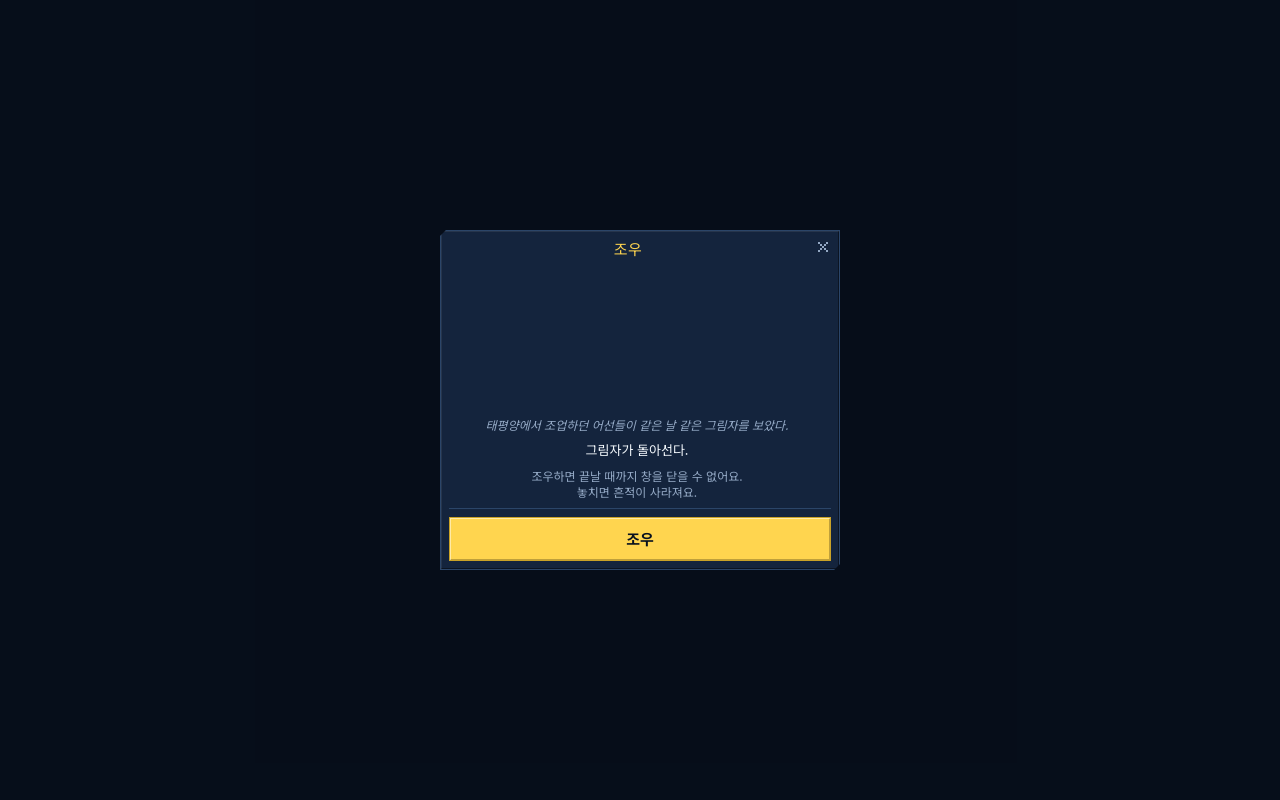
EncounterModal › 스페이스바도 챔질이 된다
Click the button "조우" at (640, 539), box [449,517,831,561]
Wait 350 ms
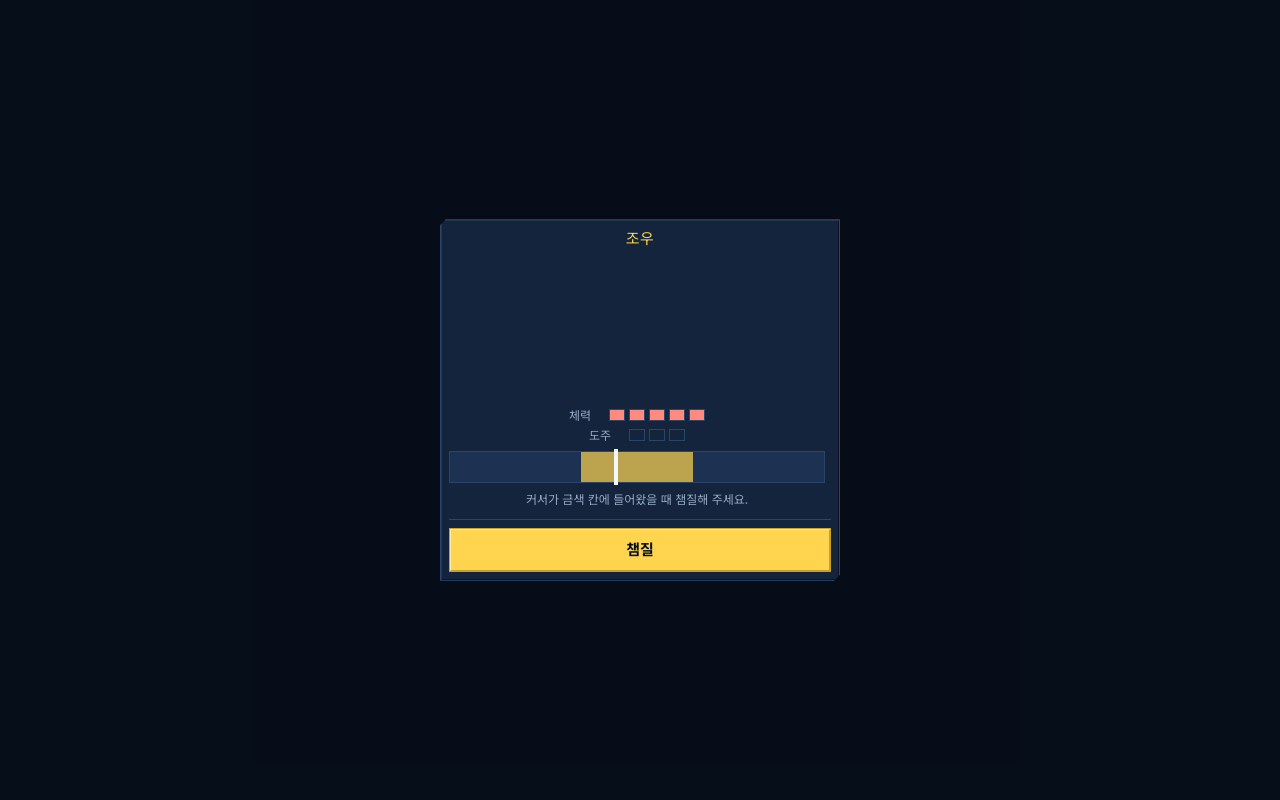
Press Space
Wait 850 ms
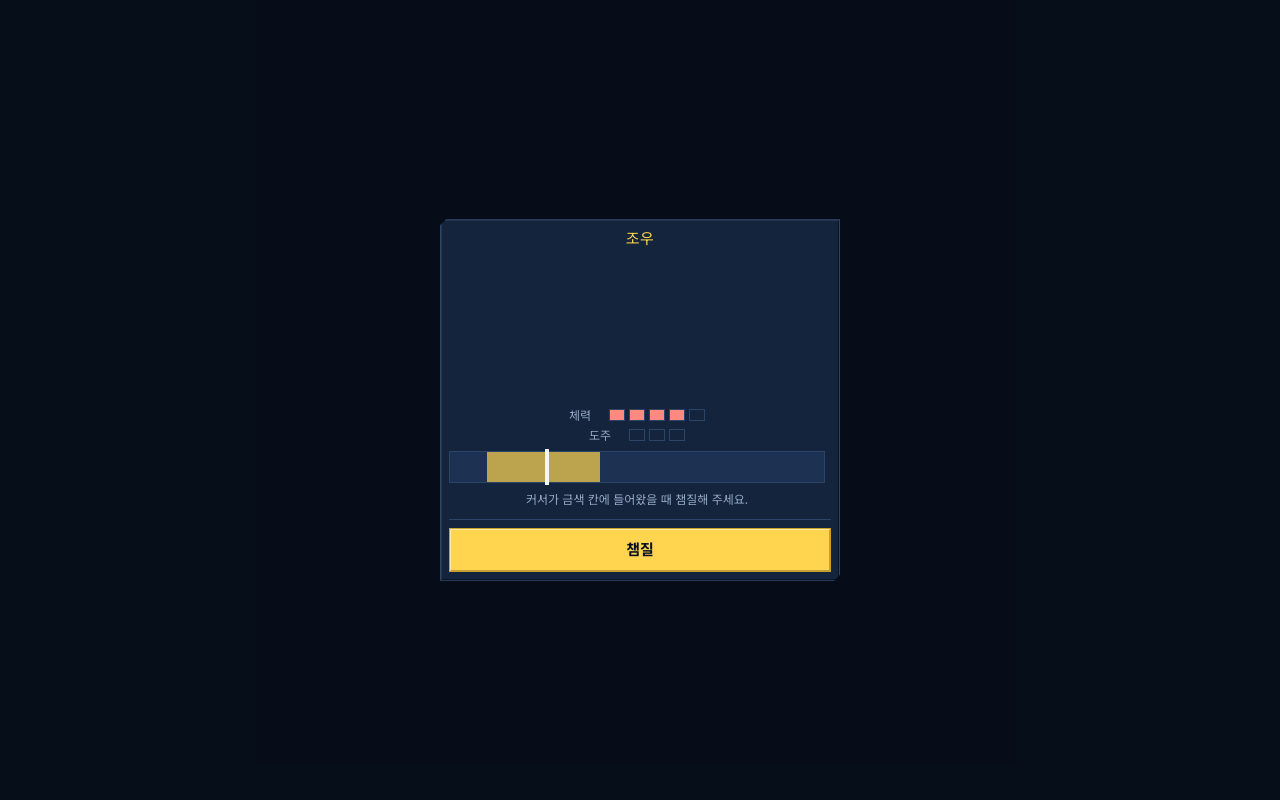
Press Space
Wait 450 ms
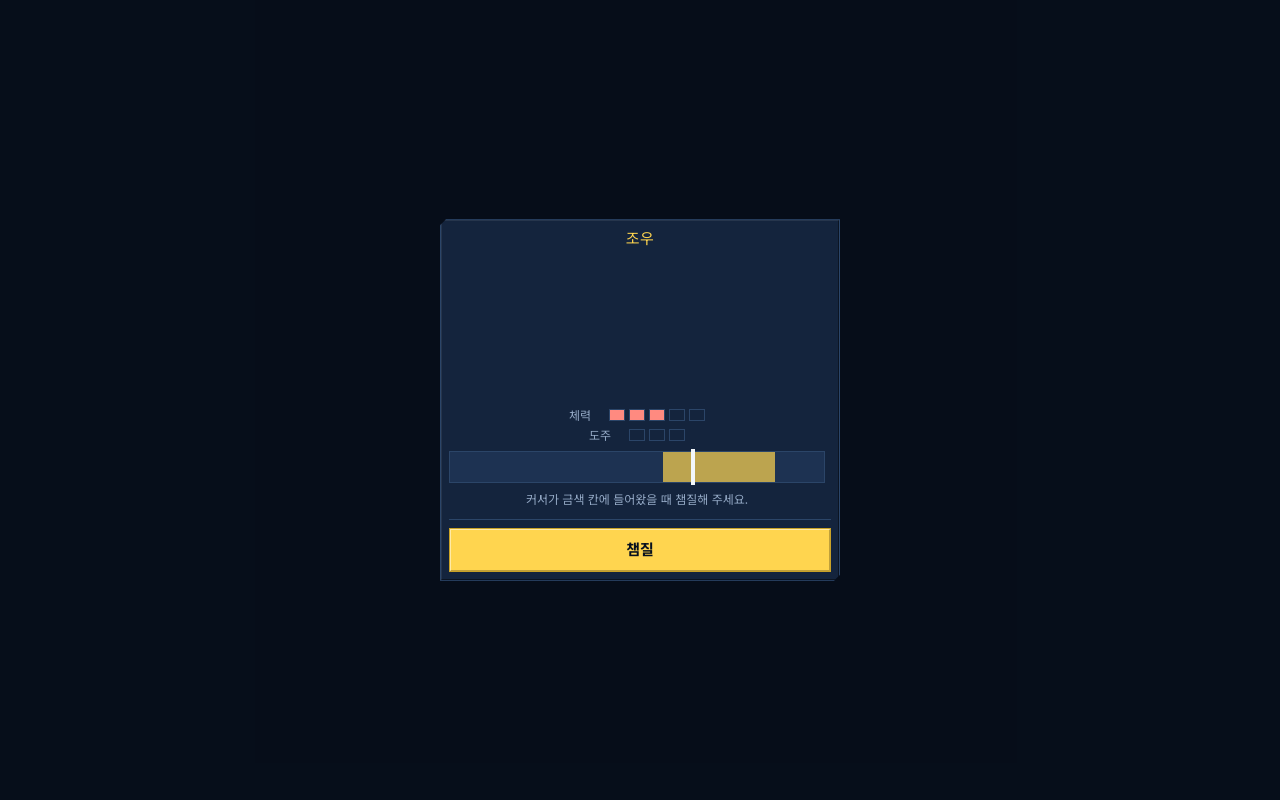
Press Space
Wait 350 ms
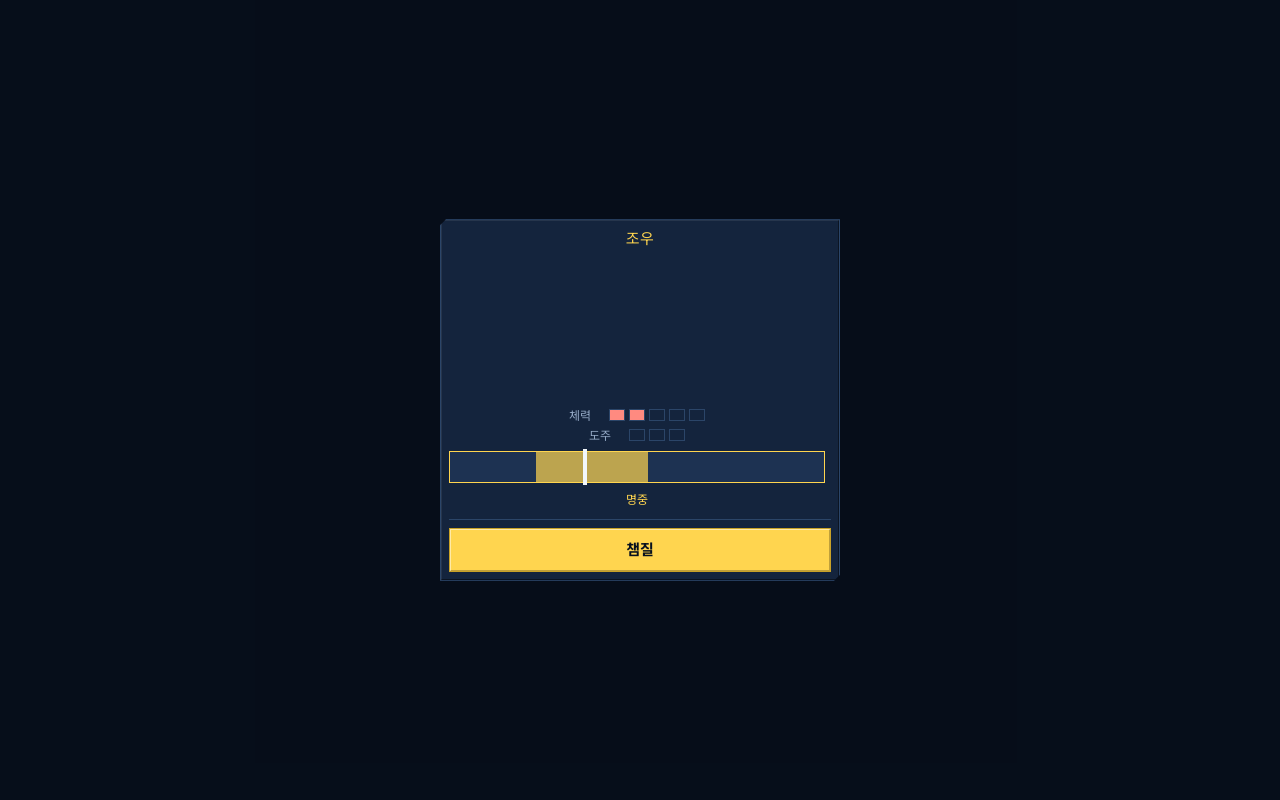
Press Space
Wait 400 ms
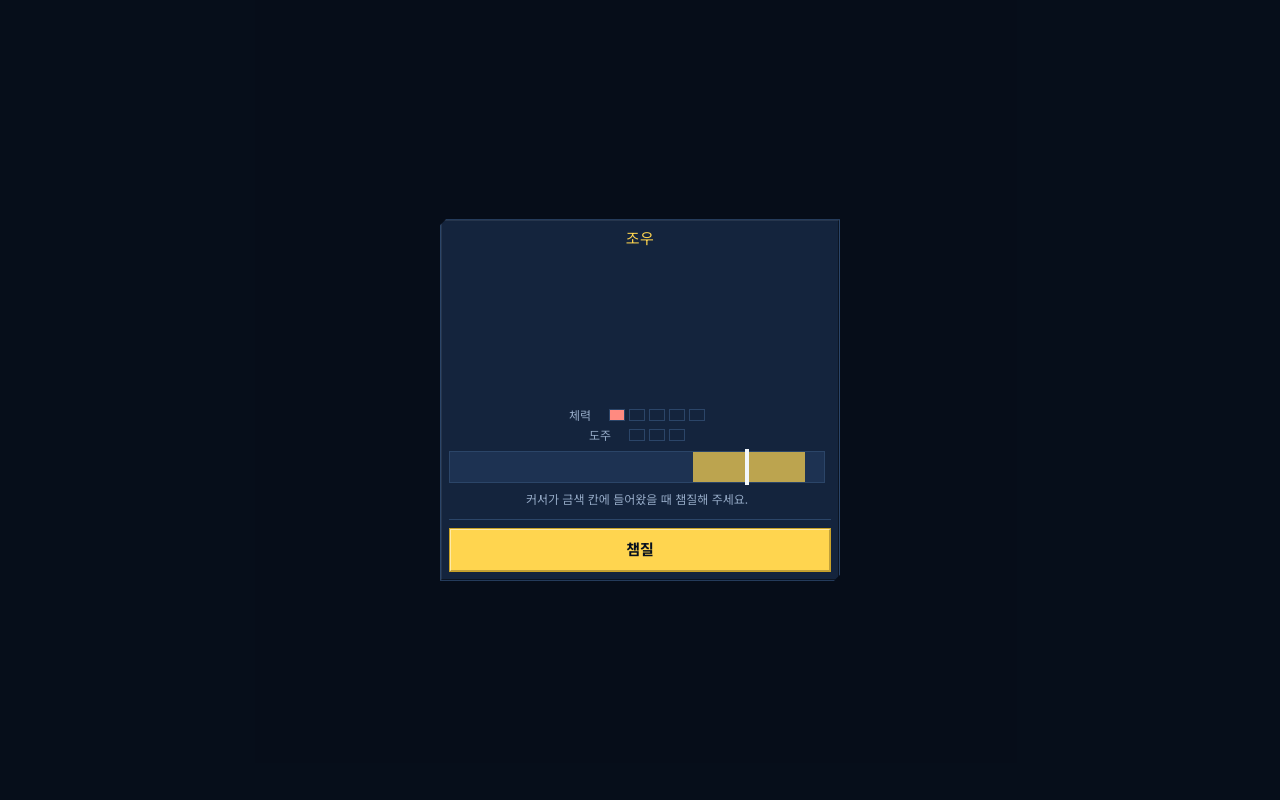
Press Space
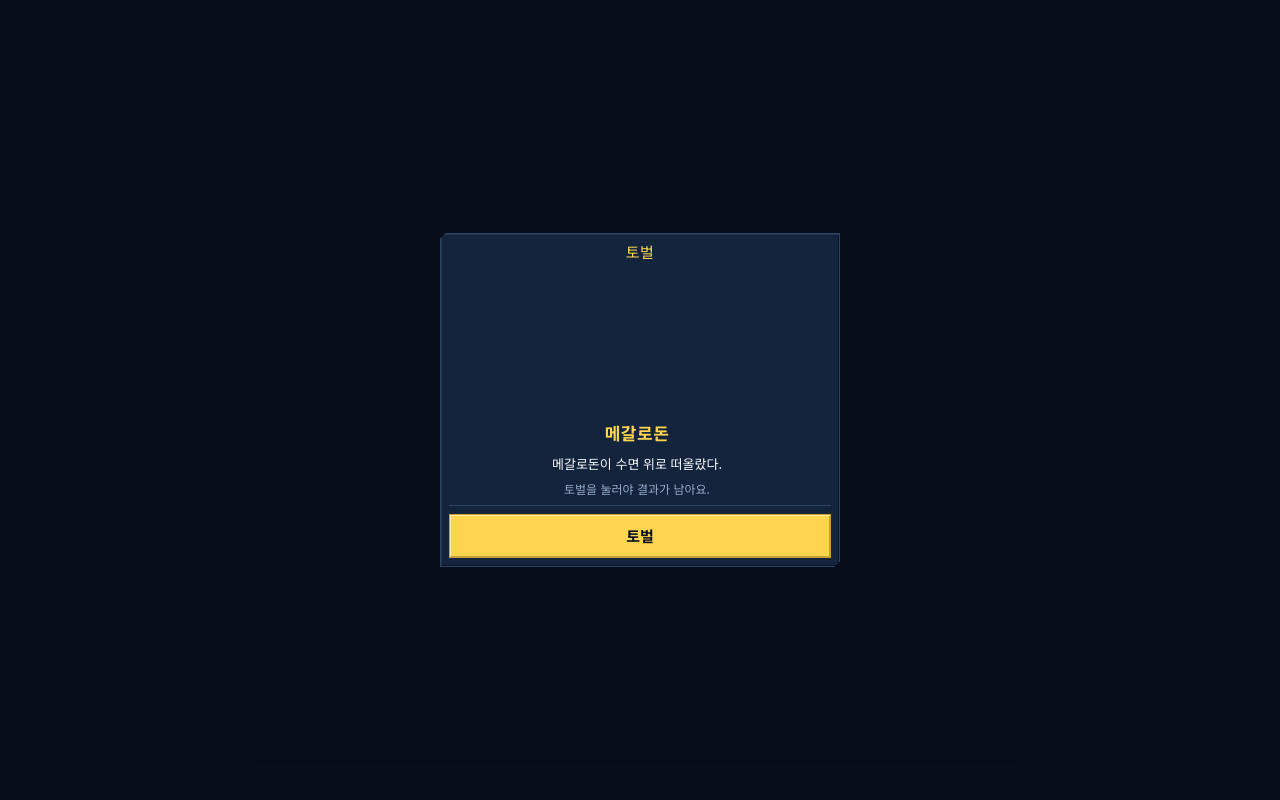
Check: the button "토벌" is shown, box [449,514,831,558]
